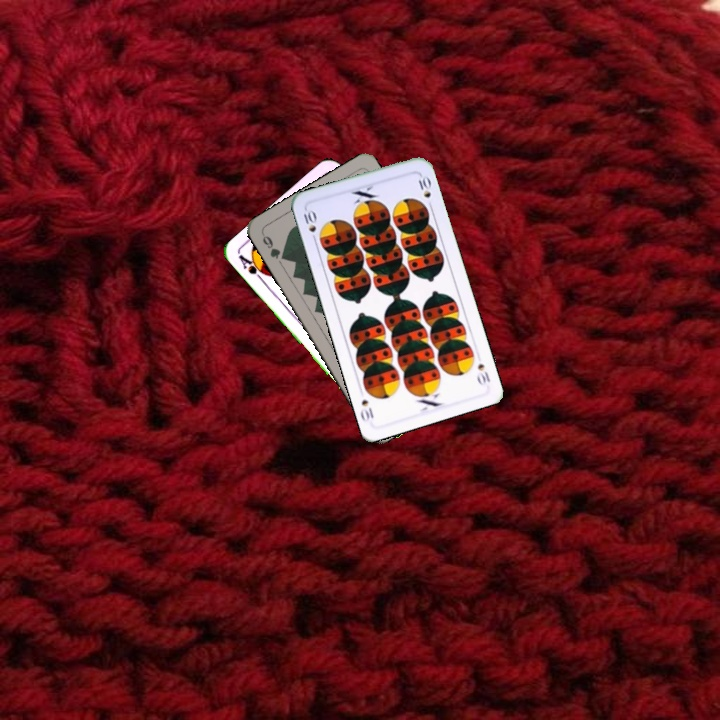G9: (258, 230, 289, 263)
S10: (299, 205, 319, 245), (473, 359, 493, 388)
SA: (235, 251, 271, 285)
